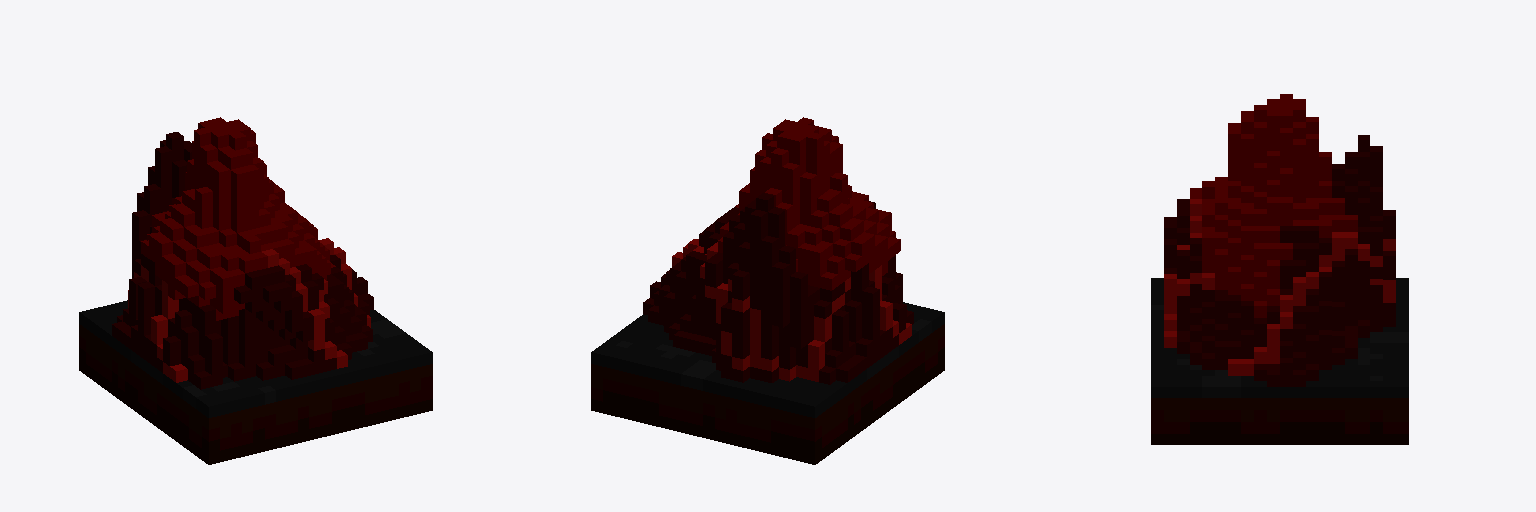
File: ruby.obj
The picture shows the model from 3 angles: view 1: azimuth 30°, elevation 25°; view 2: azimuth 150°, elevation 25°; view 3: azimuth 270°, elevation 25°; orthographic projection.
Parts seen in each view (by area): view 1: ruby; view 2: ruby; view 3: ruby.
Boxes of the visible parts, x1=… form: ruby: x1=79, y1=117, x2=432, y2=464; ruby: x1=591, y1=117, x2=944, y2=464; ruby: x1=1151, y1=94, x2=1408, y2=444.
Bounding box in the file's own units: 1 × 1.15 × 1.